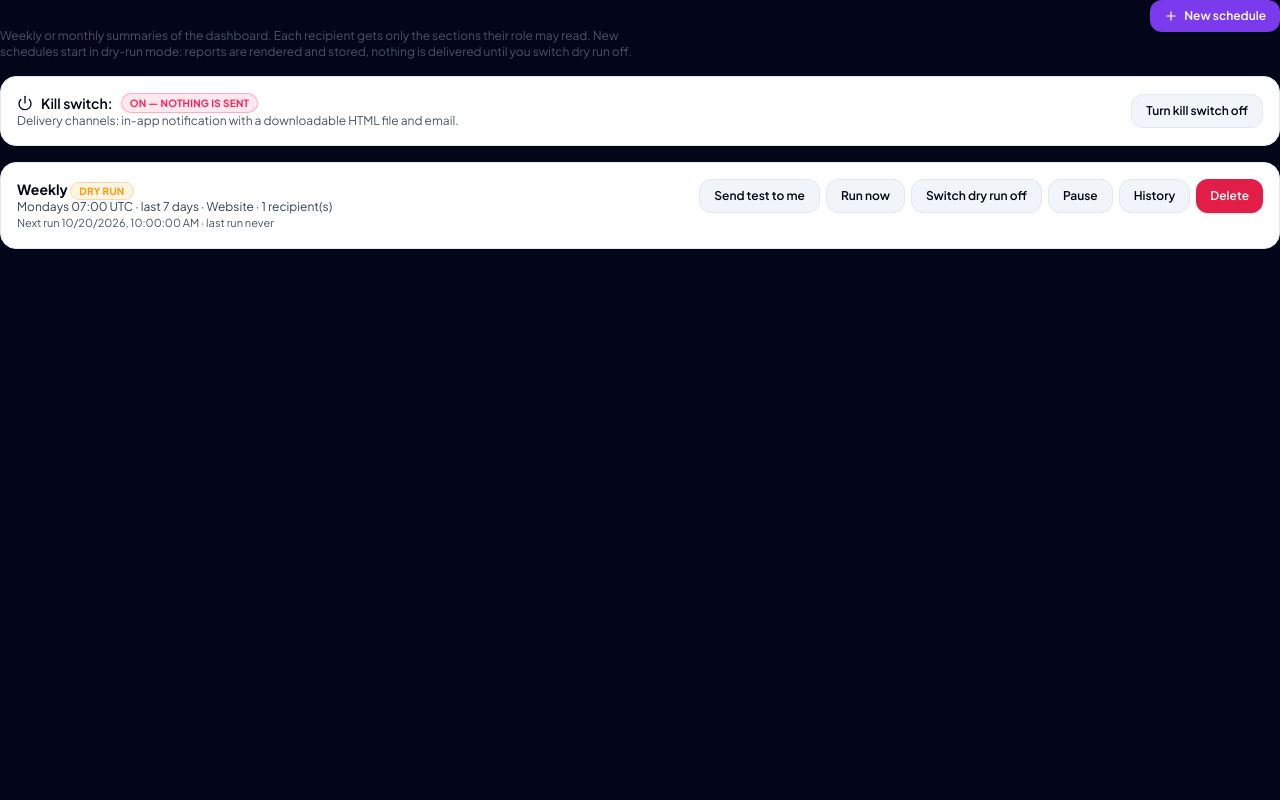
ScheduledReportsPage › disables 'send test' while the kill switch is on and creates schedules in dry run by default
Later steps or results of the test are not shown.
Check: the text "Weekly" is shown, box [17,180,68,198]
Check: the button "Send test to me" is disabled, box [699,179,820,213]
Click the button "New schedule" at (1215, 16), box [1150,0,1279,32]
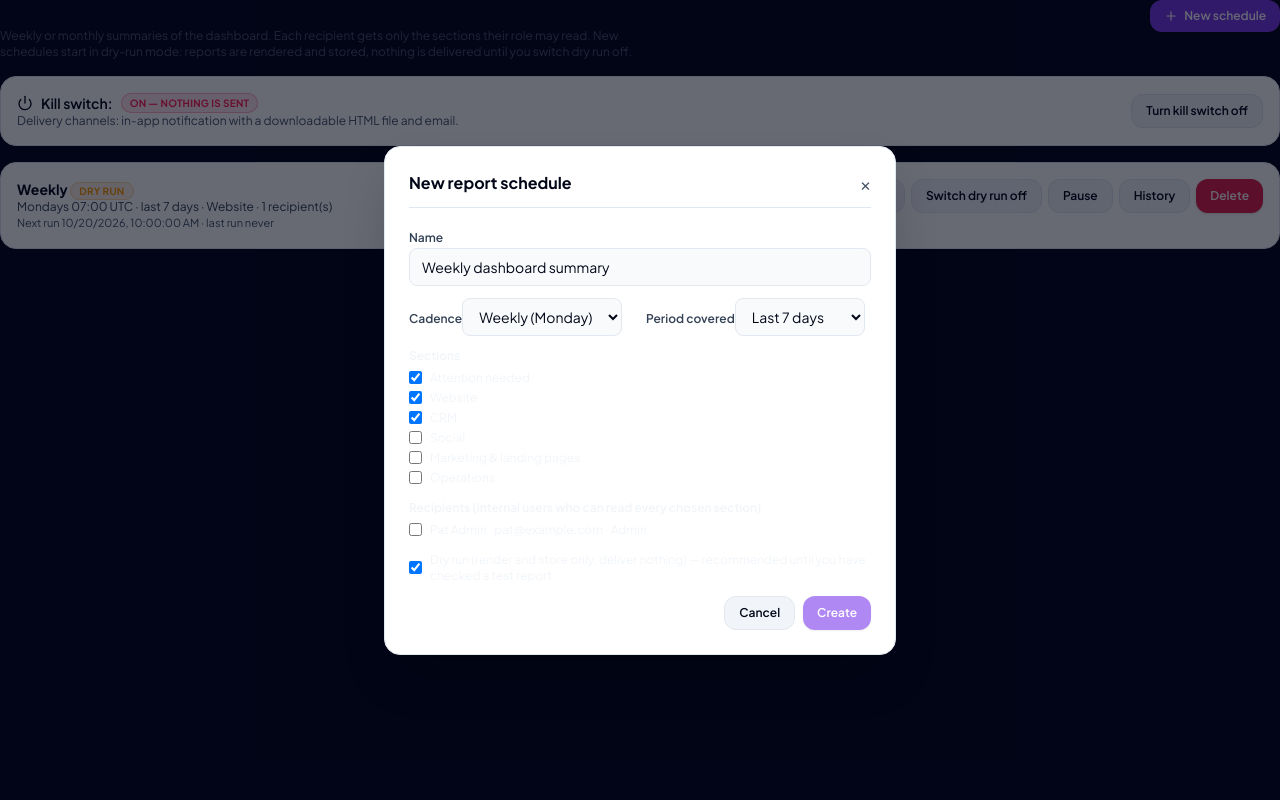
Check: the checkbox labelled "Dry run" is checked, box [409,561,422,574]
